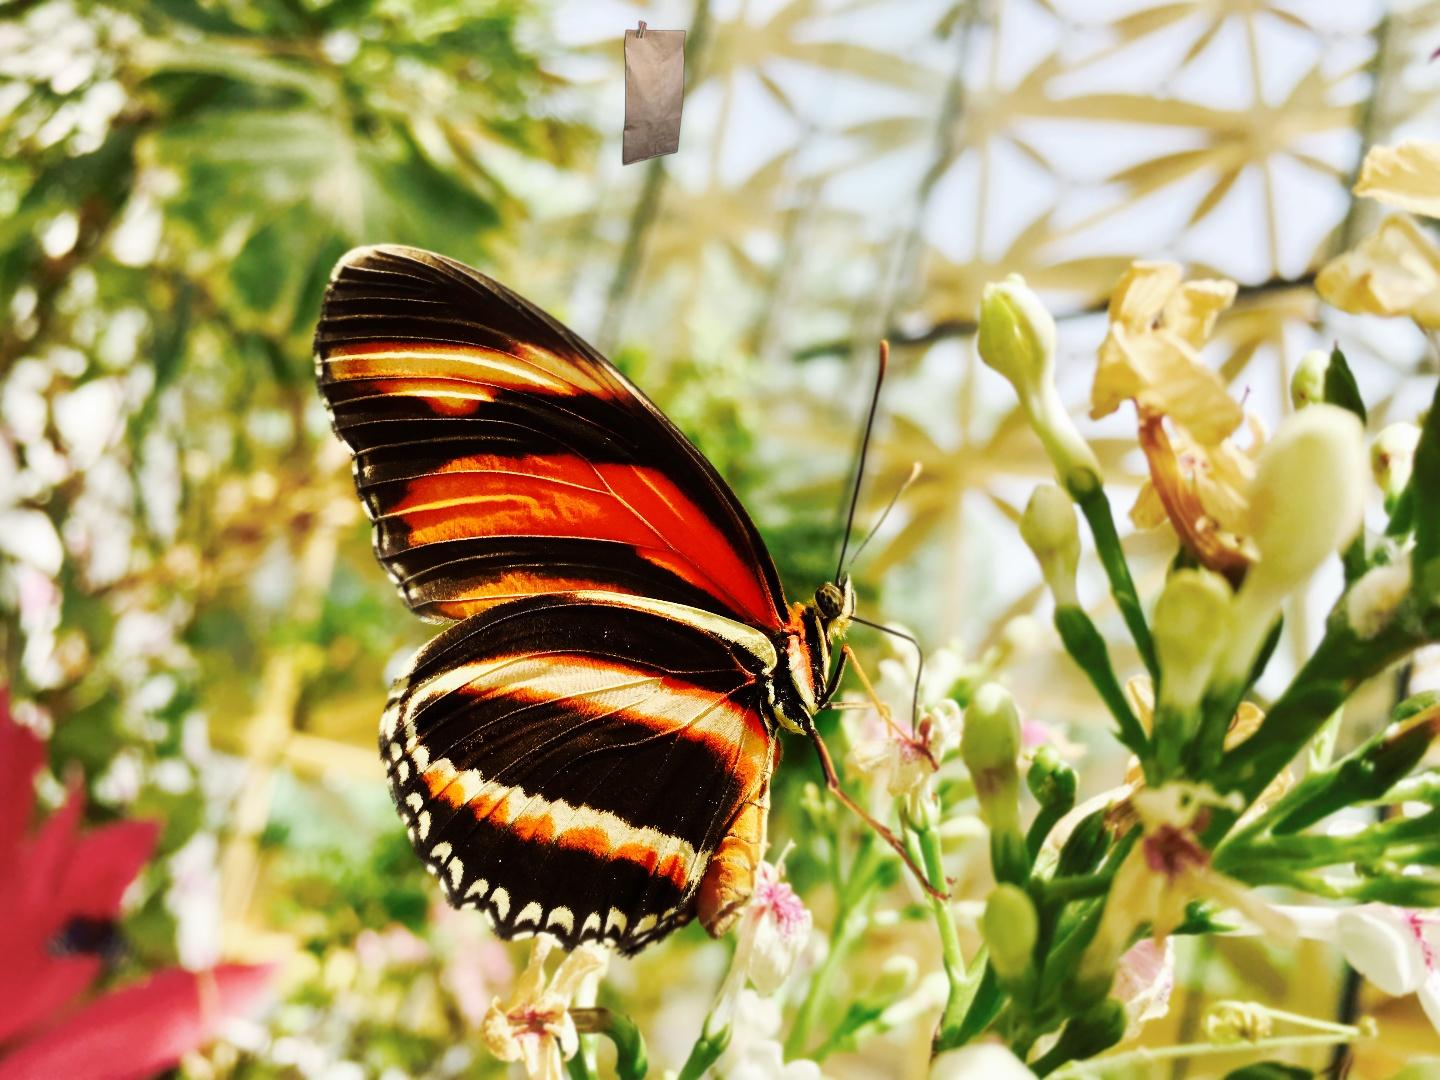paper-bag: (620, 19, 688, 168)
